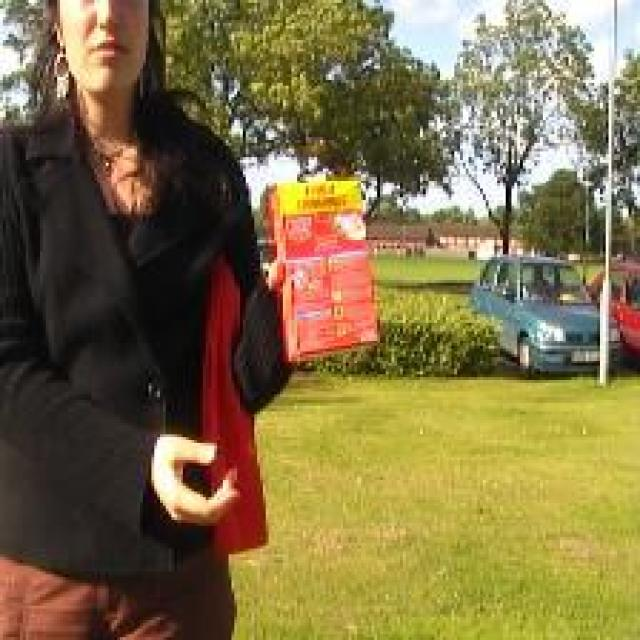other: (193, 259, 287, 545), (264, 174, 394, 348)
